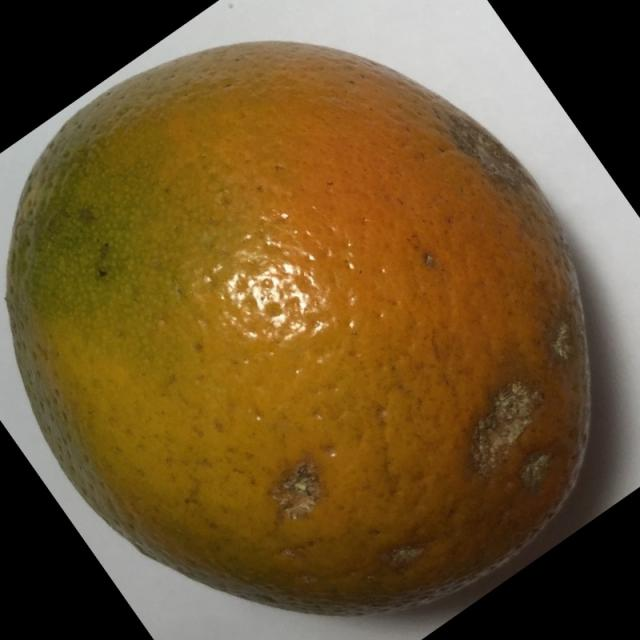canker: (14, 42, 637, 623)
